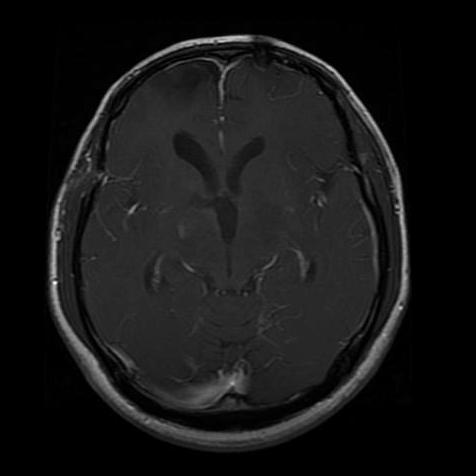Tumour-Glioma: (176, 344, 264, 421)
